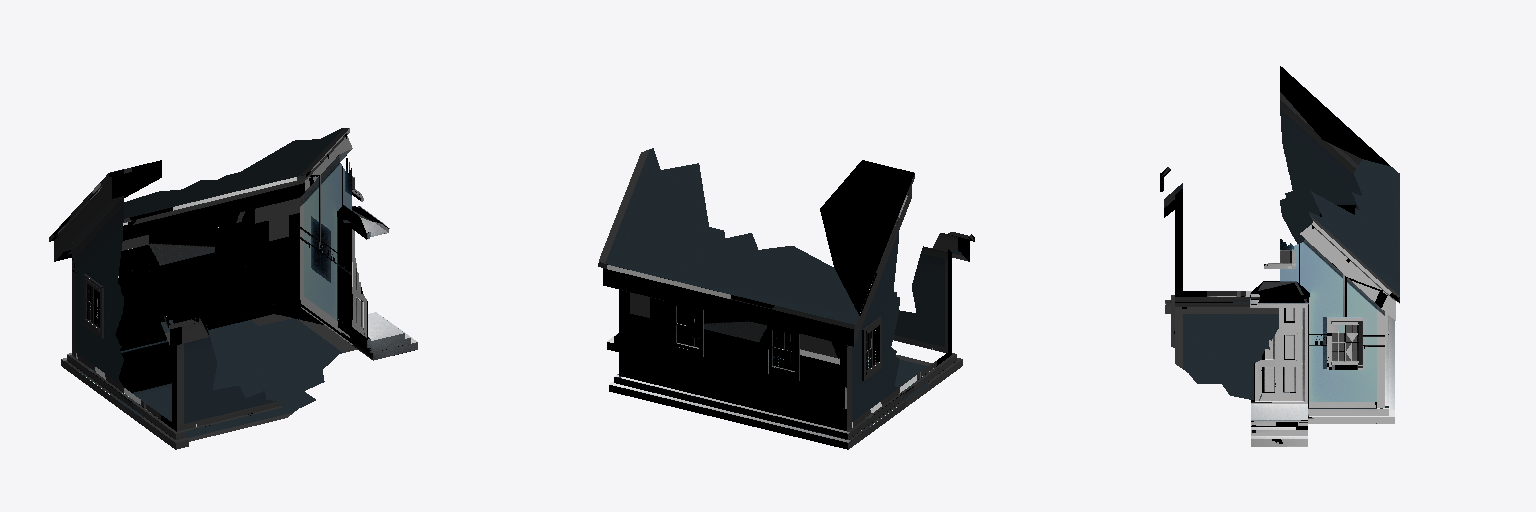
The picture shows the model from 3 angles: view 1: azimuth 30°, elevation 25°; view 2: azimuth 150°, elevation 25°; view 3: azimuth 270°, elevation 25°; orthographic projection.
Parts seen in each view (by area): view 1: house.003_house-mesh.003; view 2: house.003_house-mesh.003; view 3: house.003_house-mesh.003.
Part boxes in pixels (x1,y1,x2,y2): house.003_house-mesh.003: (49,128,417,449); house.003_house-mesh.003: (598,148,974,449); house.003_house-mesh.003: (1160,66,1399,446).
Size of the model in its own units: 3.24 by 2.5 by 2.29.
6 materials, 1 textured.